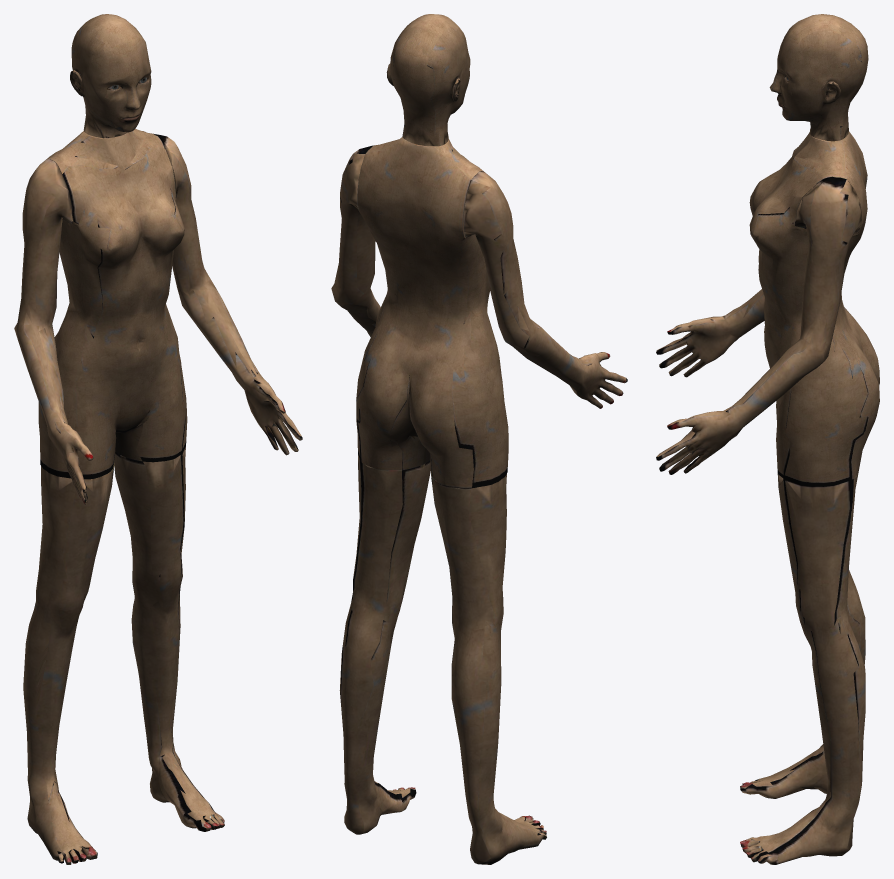
Rendered from creepy_mannequin.glb.
The picture shows the model from 3 angles, left to right: view 1: azimuth 30°, elevation 25°; view 2: azimuth 150°, elevation 25°; view 3: azimuth 270°, elevation 25°; orthographic projection. The views are drawn at different scales.
Parts seen in each view (by area): view 1: torso_main_0_18, bein_rechts_main_0_12, bein_links_main_0_10, arm_links_gebeugt_main_0_0, arm_rechts_gebeugt_main_0_3, kopf_main_0_16; view 2: torso_main_0_18, bein_rechts_main_0_12, bein_links_main_0_10, arm_links_gebeugt_main_0_0, kopf_main_0_16, arm_rechts_gebeugt_main_0_3; view 3: torso_main_0_18, bein_links_main_0_10, arm_rechts_gebeugt_main_0_3, kopf_main_0_16, arm_links_gebeugt_main_0_0, bein_rechts_main_0_12.
Boxes of the visible parts, left/top/right/bottom form: torso_main_0_18: left=38, top=129, right=187, bottom=479; bein_rechts_main_0_12: left=23, top=463, right=114, bottom=864; bein_links_main_0_10: left=114, top=446, right=224, bottom=831; arm_links_gebeugt_main_0_0: left=14, top=158, right=93, bottom=504; arm_rechts_gebeugt_main_0_3: left=153, top=133, right=302, bottom=455; kopf_main_0_16: left=70, top=14, right=151, bottom=138; torso_main_0_18: left=356, top=137, right=508, bottom=488; bein_rechts_main_0_12: left=431, top=473, right=546, bottom=864; bein_links_main_0_10: left=339, top=454, right=430, bottom=834; arm_links_gebeugt_main_0_0: left=463, top=171, right=627, bottom=408; kopf_main_0_16: left=386, top=14, right=470, bottom=146; arm_rechts_gebeugt_main_0_3: left=331, top=145, right=380, bottom=337; torso_main_0_18: left=749, top=131, right=879, bottom=486; bein_links_main_0_10: left=740, top=472, right=865, bottom=864; arm_rechts_gebeugt_main_0_3: left=656, top=177, right=861, bottom=474; kopf_main_0_16: left=769, top=14, right=868, bottom=141; arm_links_gebeugt_main_0_0: left=656, top=289, right=764, bottom=377; bein_rechts_main_0_12: left=740, top=570, right=865, bottom=798.
Size of the model in its own units: 0.4694 by 1.65 by 0.4139.
Materials: 2 (2 with a texture image).
